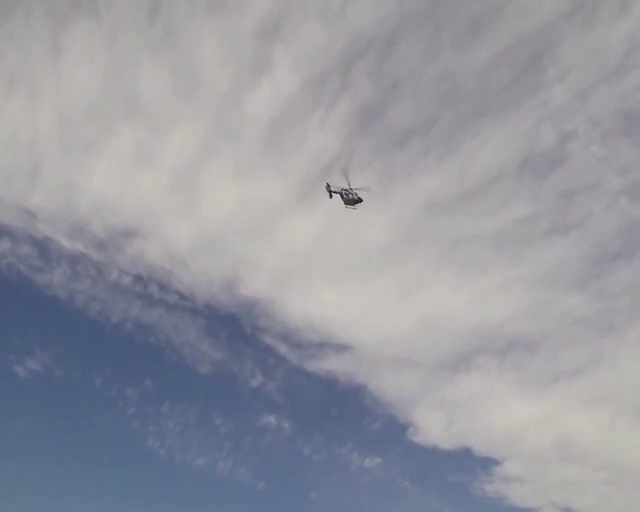HELICOPTER: (325, 168, 367, 209)
